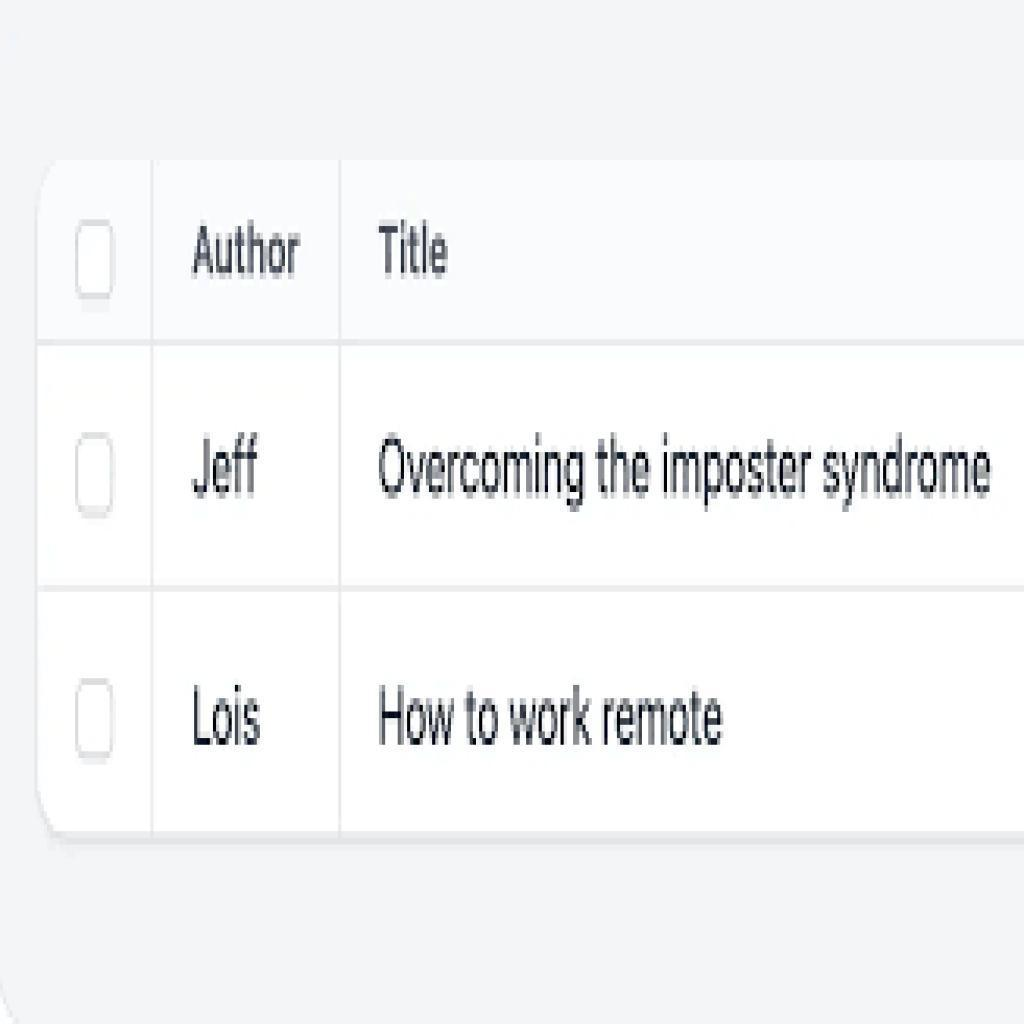checkbox: (71, 425, 119, 529), (73, 212, 120, 311), (75, 675, 117, 767)
table: (41, 161, 1022, 842)
